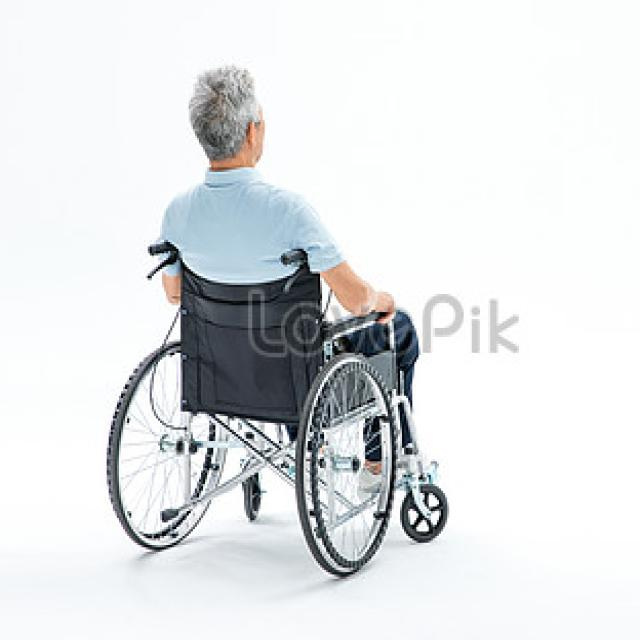wheelchair: (102, 63, 450, 582)
